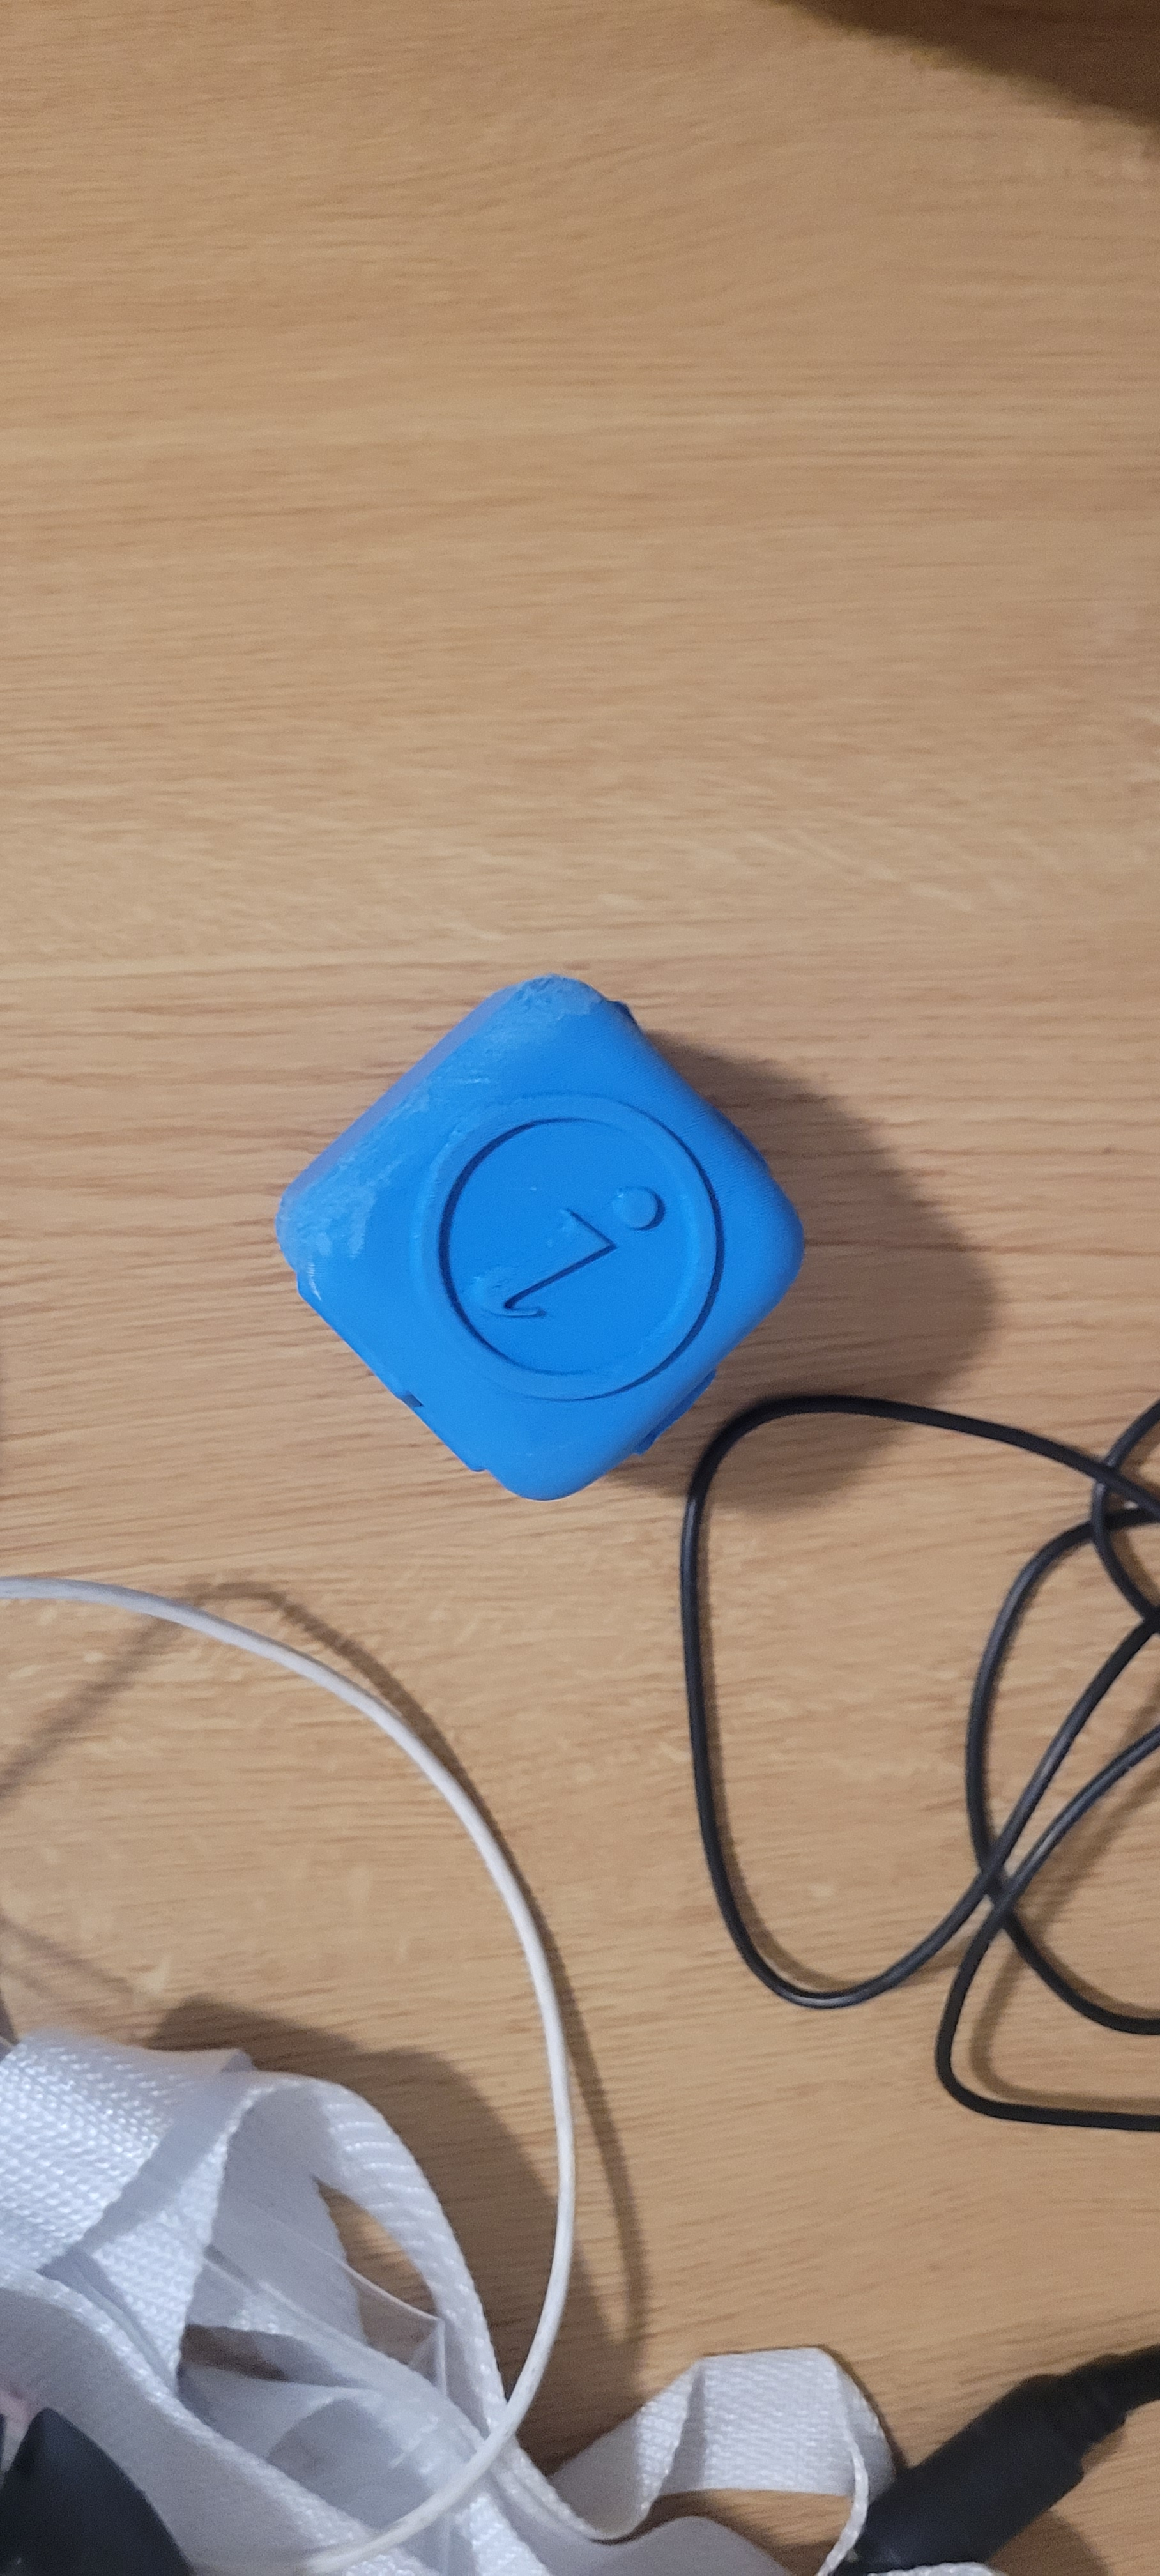Info: (373, 1063, 725, 1391)
